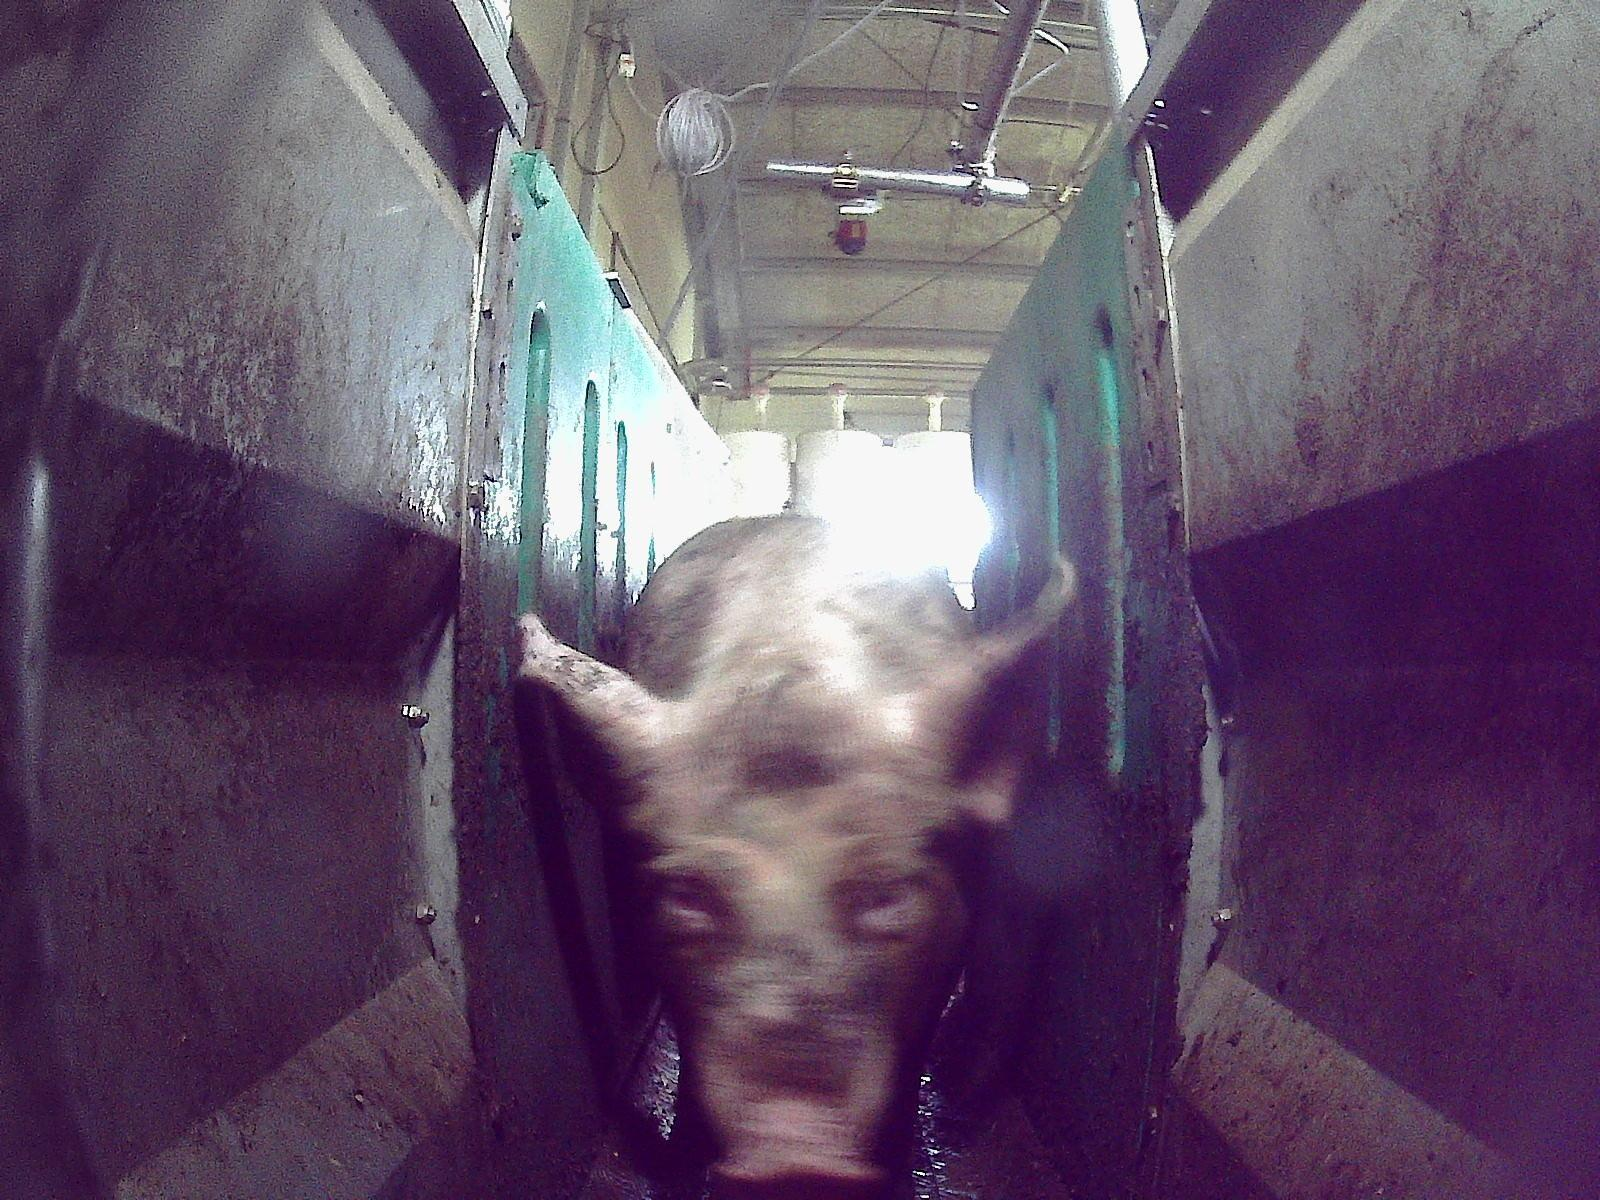Face: (617, 727, 971, 1199)
